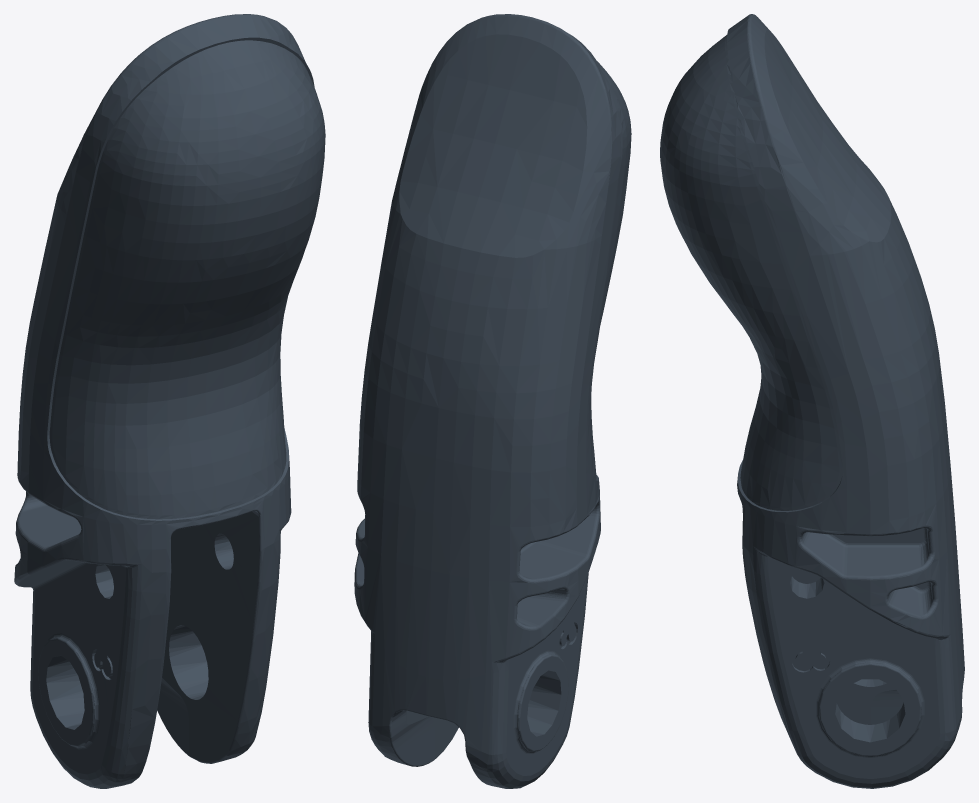
File: rf_dip_link.glb
3 views of the same model, side by side, from view 1: azimuth 30°, elevation 25°; view 2: azimuth 150°, elevation 25°; view 3: azimuth 270°, elevation 25° (orthographic). The views are drawn at different scales.
Parts seen in each view (by area): view 1: rf_dip; view 2: rf_dip; view 3: rf_dip.
Boxes of the visible parts, <box> form: rf_dip: <box>14,14,325,788</box>; rf_dip: <box>354,14,631,788</box>; rf_dip: <box>660,14,964,788</box>.
Bounding box in the file's own units: 0.0147 × 0.047 × 0.0177.
